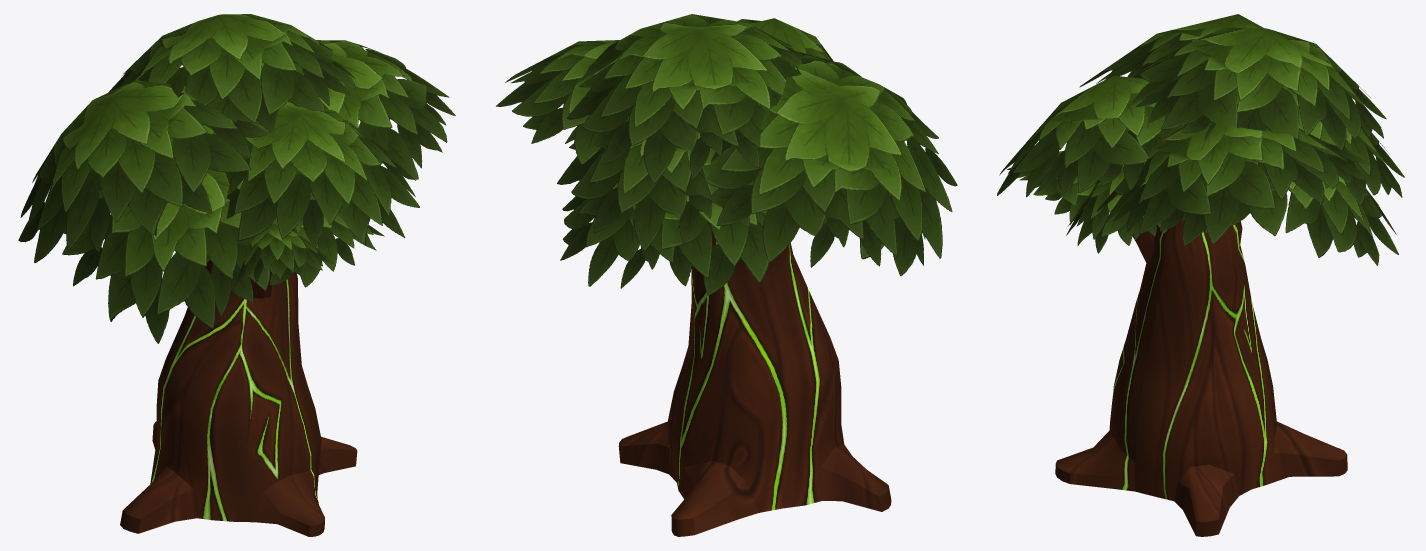
File: sap_tree.fbx
3 renders of one model, left to right at view 1: azimuth 30°, elevation 25°; view 2: azimuth 150°, elevation 25°; view 3: azimuth 270°, elevation 25°, orthographic. The views are drawn at different scales.
Parts seen in each view (by area): view 1: tree; view 2: tree; view 3: tree.
Part boxes in pixels (x1,y1,x2,y2): tree: (18, 14, 455, 536); tree: (496, 14, 957, 536); tree: (997, 14, 1404, 536).
Size of the model in its own units: 10.92 by 11.26 by 9.39.
